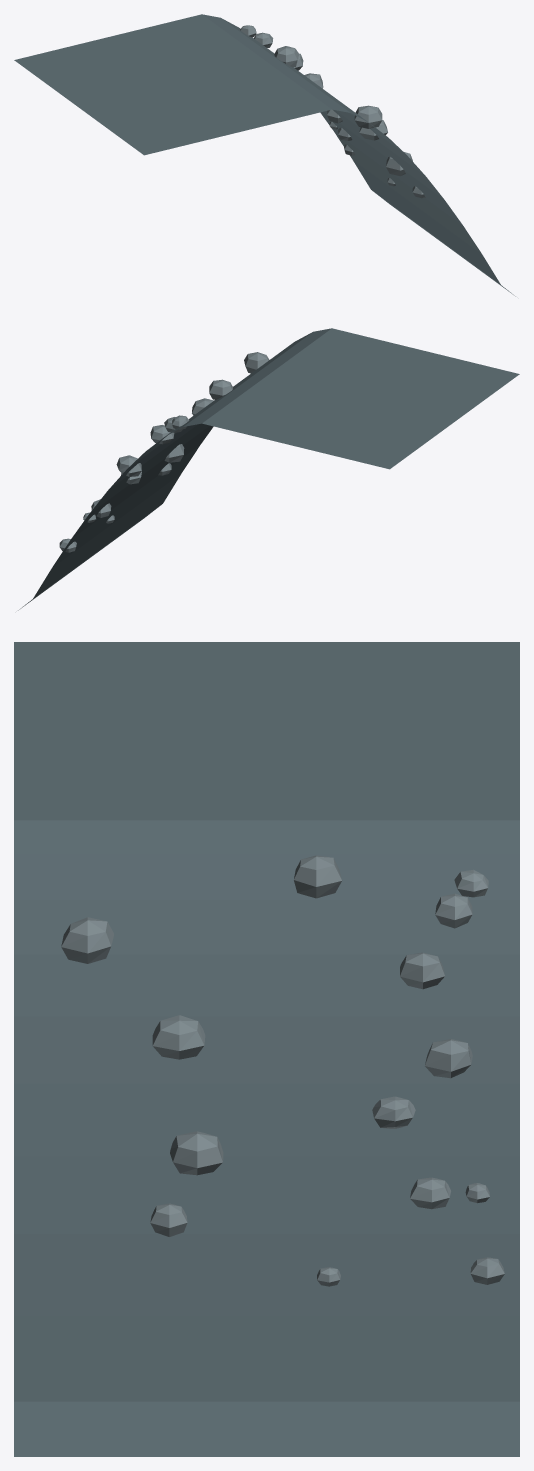
The model's file is lake-slope-edge-slope-0.glb.
The picture shows the model from 3 angles, top to bottom: view 1: azimuth 30°, elevation 25°; view 2: azimuth 150°, elevation 25°; view 3: azimuth 270°, elevation 25°; orthographic projection. The views are drawn at different scales.
Visible parts, largest first — view 1: lake-slope-edge-slope-0; view 2: lake-slope-edge-slope-0; view 3: lake-slope-edge-slope-0.
Part boxes in pixels (<box>): lake-slope-edge-slope-0: <box>14,14,515,296</box>; lake-slope-edge-slope-0: <box>18,328,519,610</box>; lake-slope-edge-slope-0: <box>14,642,519,1456</box>.
Bounding box in the file's own units: 4 × 2.4 × 2.4.
